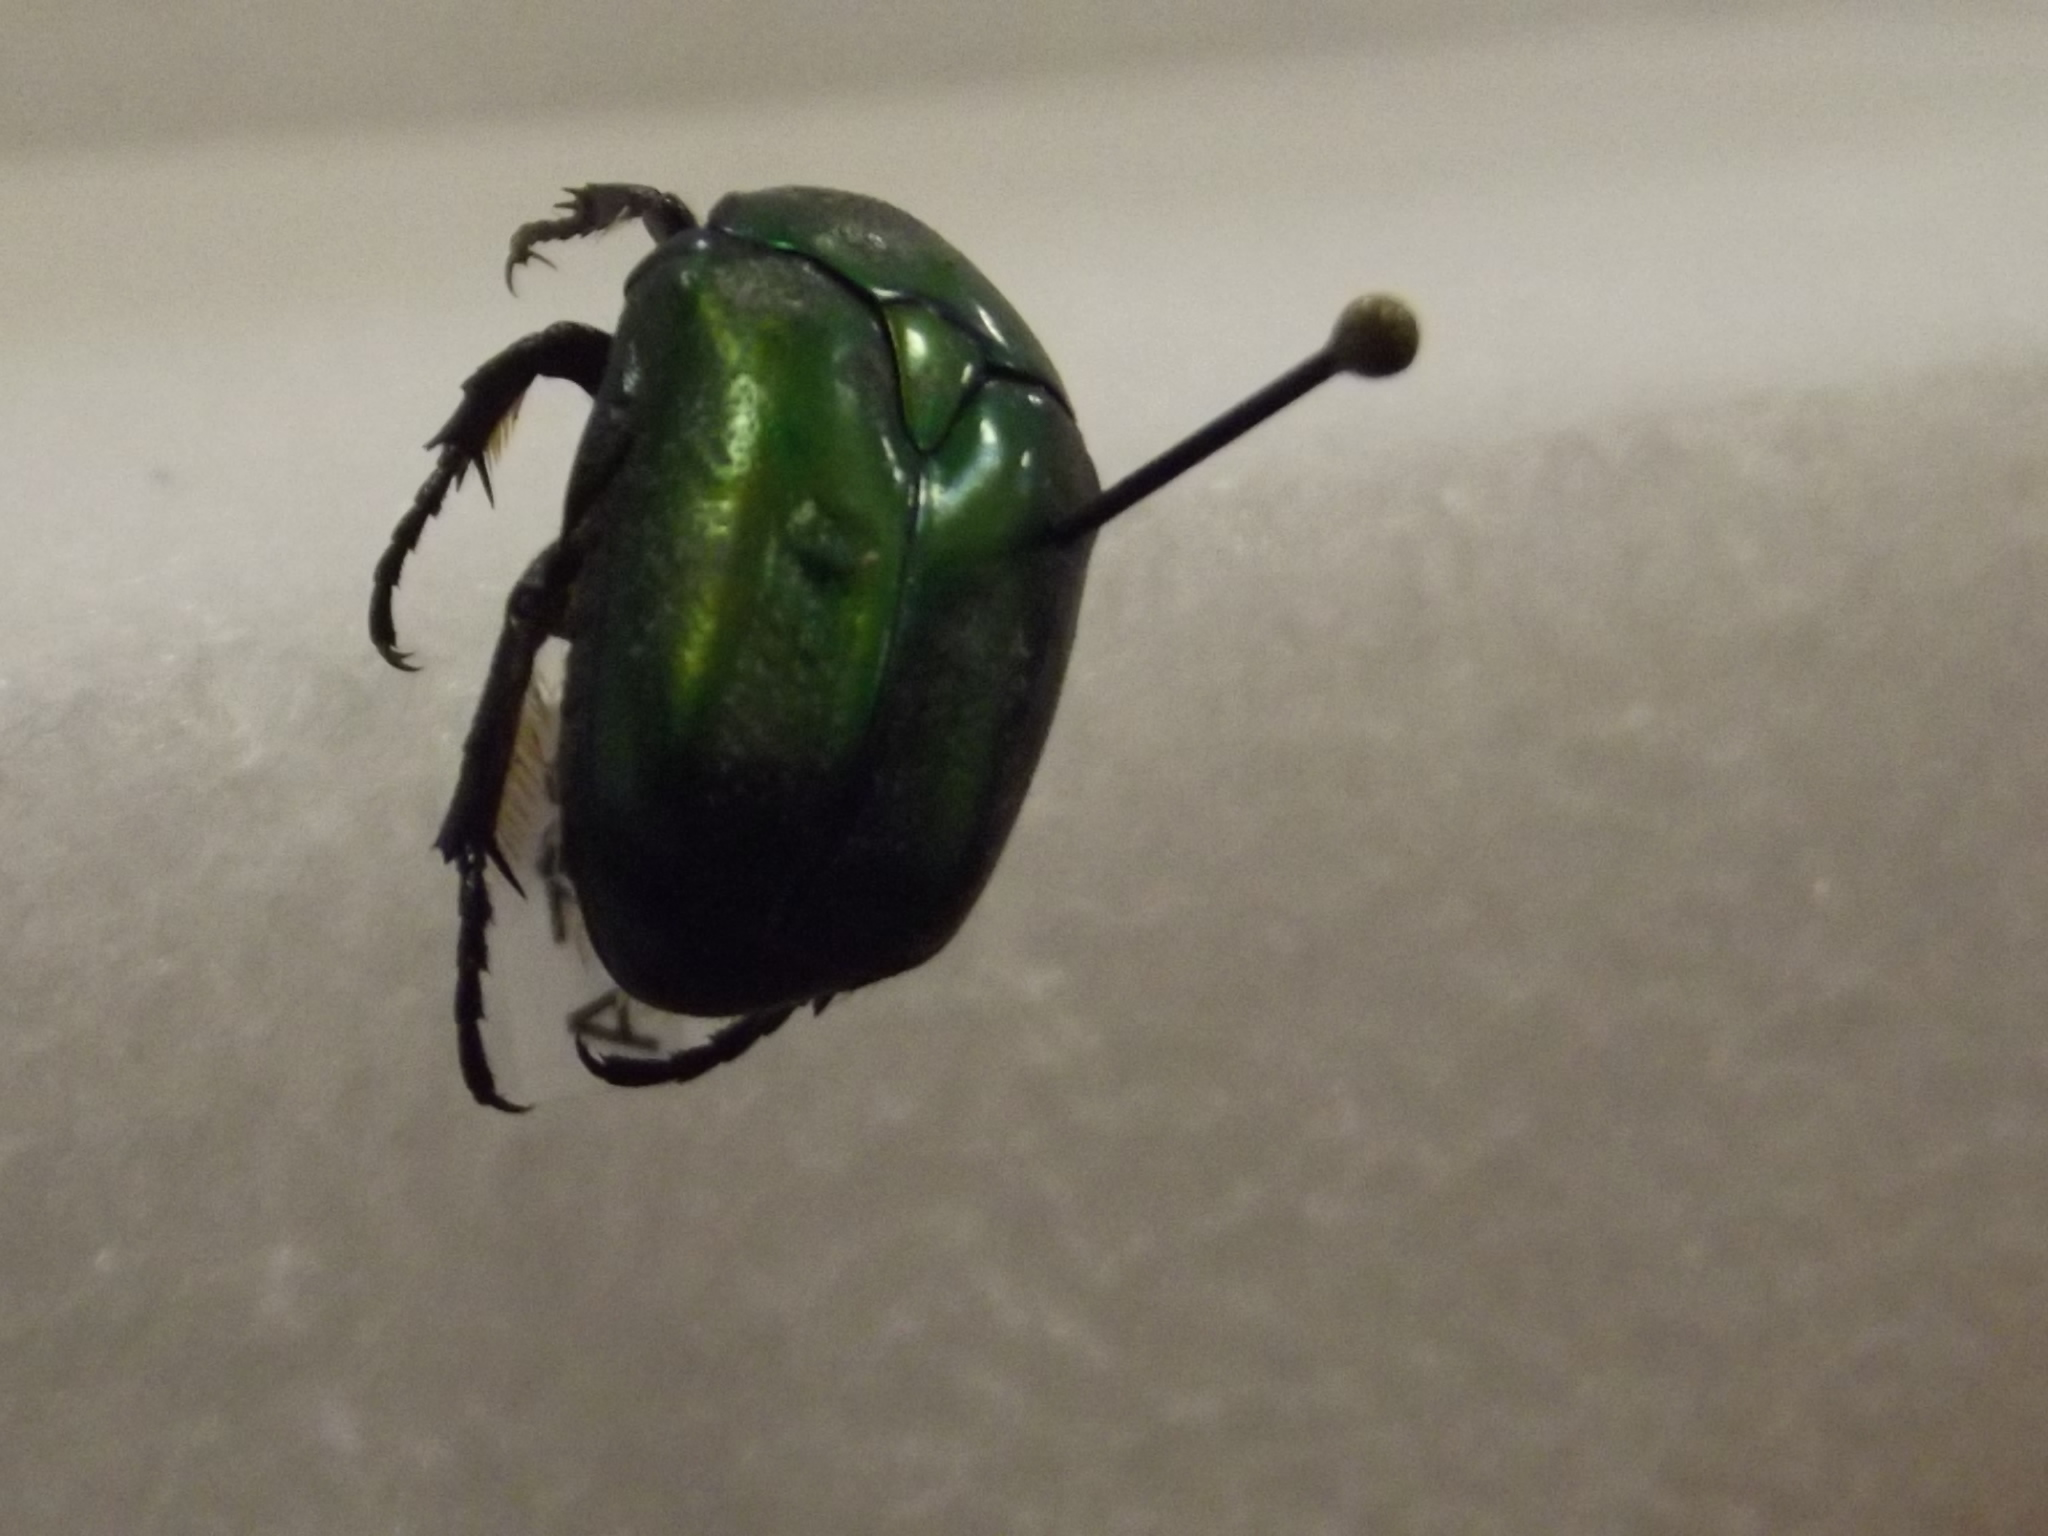Protaetia_cuprea_ignicollis: (361, 144, 1138, 1149)
